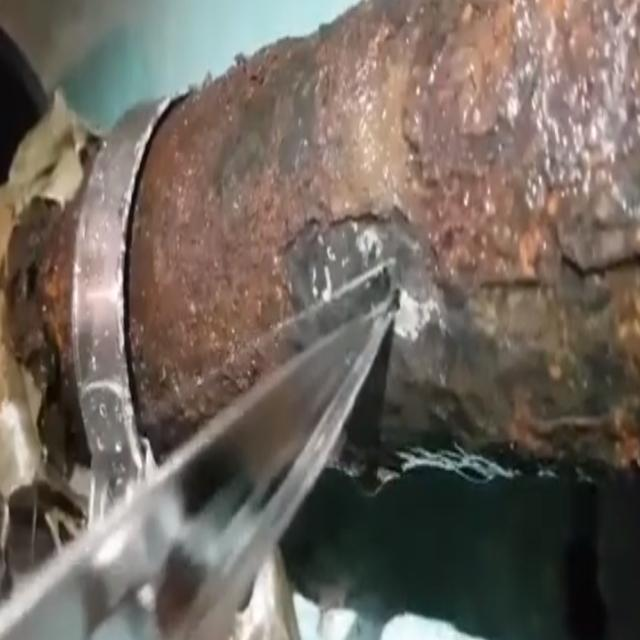leak: (0, 262, 398, 638)
